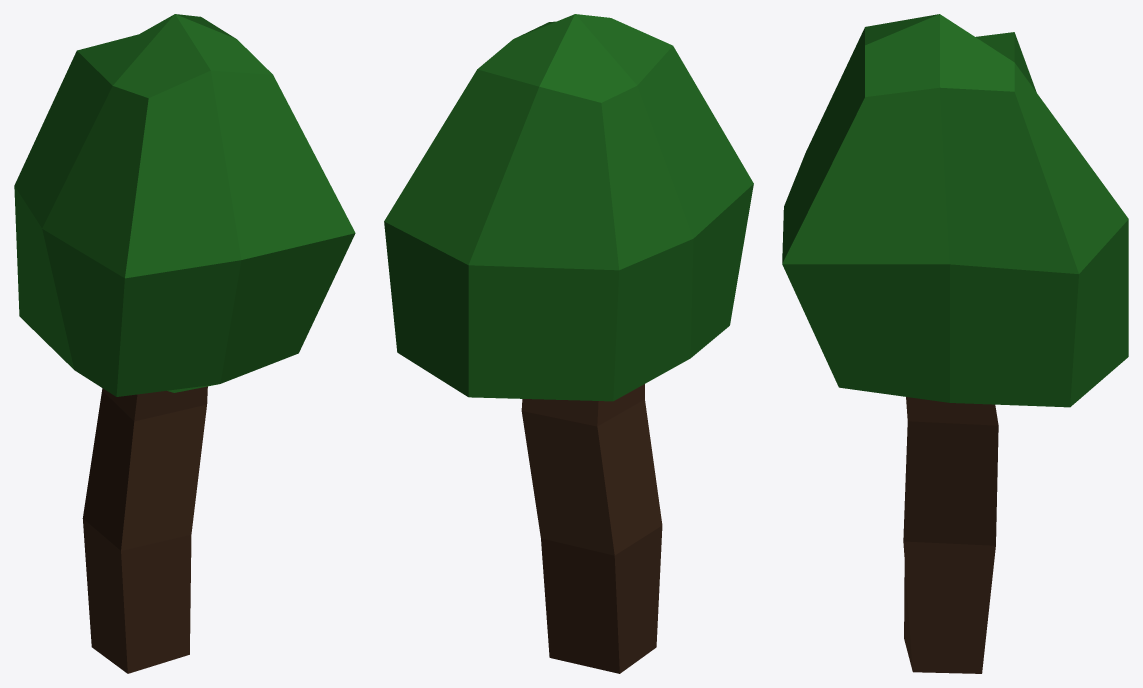
File: tree_A.fbx
3 renders of one model, left to right at view 1: azimuth 30°, elevation 25°; view 2: azimuth 150°, elevation 25°; view 3: azimuth 270°, elevation 25°, orthographic. The views are drawn at different scales.
Visible parts, largest first — view 1: Tree A; view 2: Tree A; view 3: Tree A.
Boxes of the visible parts, bbox=[...] form: Tree A: bbox=[14, 14, 355, 673]; Tree A: bbox=[384, 14, 753, 673]; Tree A: bbox=[782, 14, 1128, 673].
Bounding box in the file's own units: 214 × 515 × 246.
